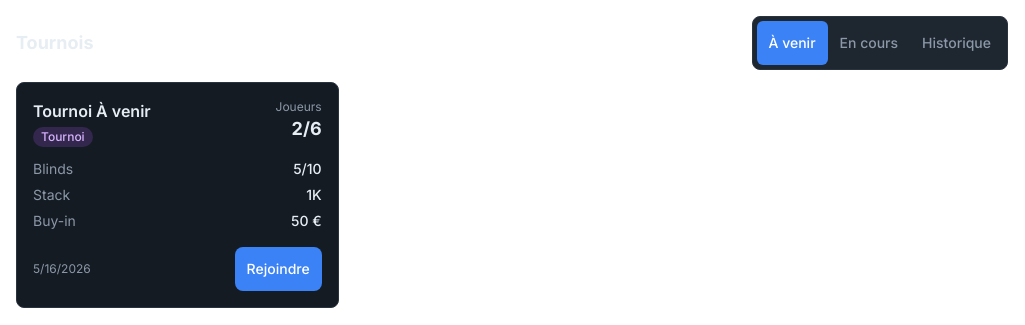
Test: TournamentsScreen › switches to "En cours" tab and shows running tournaments
Step 1. Click the tab "En cours" → (869, 43), box [828,21,910,65]
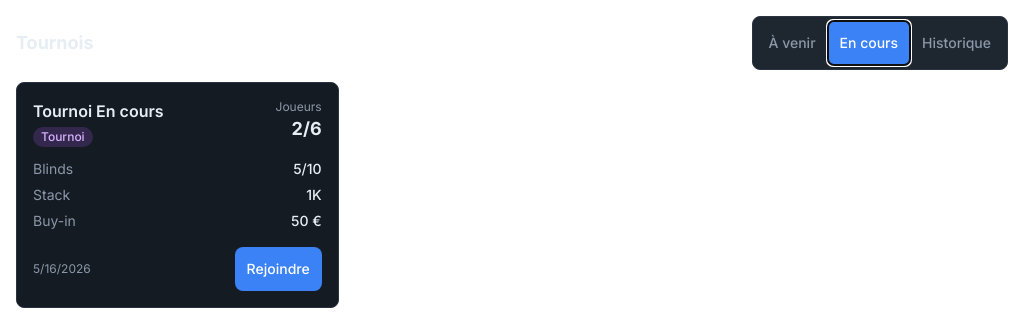
Result: the heading "Tournoi En cours" is shown at [33,101,164,121]
Result: the heading "Tournoi À venir" is gone
